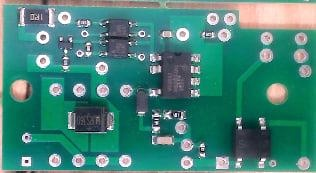chip-capacitor: (151, 135, 176, 146), (159, 29, 175, 40)
chip-resistor: (16, 6, 57, 28), (163, 108, 188, 121), (151, 108, 162, 135), (75, 18, 92, 28), (61, 55, 71, 72), (200, 30, 217, 40), (84, 40, 93, 58), (198, 141, 207, 159)
diode: (67, 105, 116, 135), (135, 87, 150, 118)
ic: (148, 51, 202, 100), (232, 115, 272, 169), (98, 18, 138, 39), (98, 39, 138, 59)
transistor: (57, 35, 74, 55)
